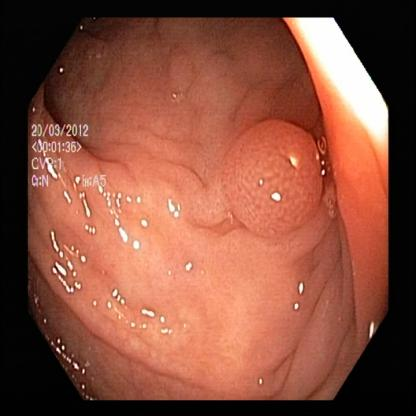Labels: (30, 122, 113, 198)
Polyps: (227, 124, 327, 239)
